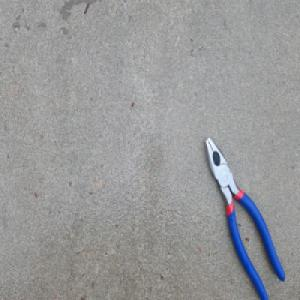Pliers: (201, 132, 285, 300)
